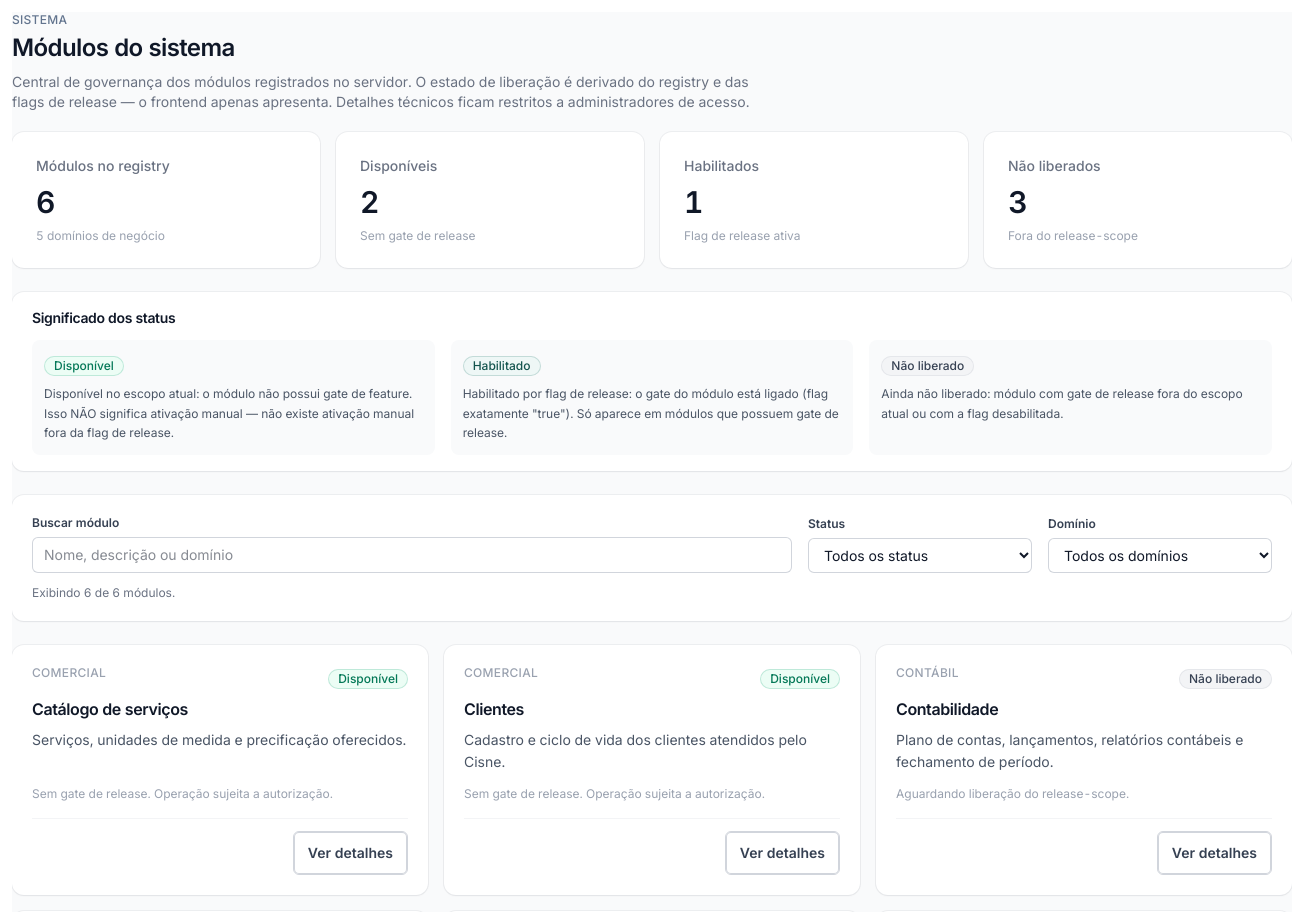
Test case: ModulesRegistryPage — governança do registry › filters by search text and restores the full list via Limpar filtros
The width and height of the screenshot is (1292, 912).
Expected: the text "Módulos no registry" is shown, [36,157,170,174]
Type "folha" into the search field labelled "Buscar módulo" at (412, 554), box [32,536,792,572]
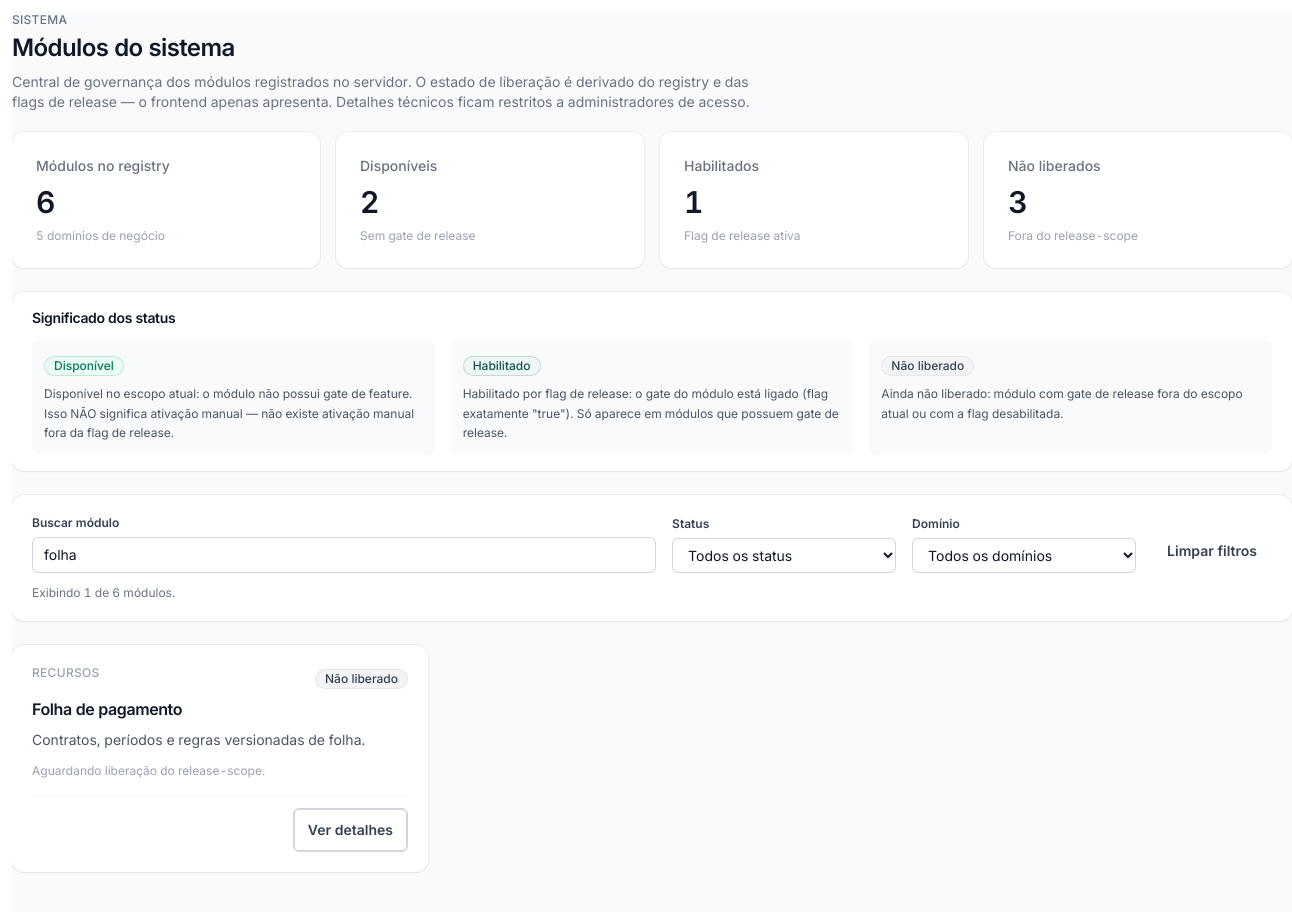
Expected: the heading "Folha de pagamento" is shown, [32,698,182,718]
Now the heading "Clientes" is gone
Now the text "Exibindo 1 de 6 módulos." is shown, box [32,584,175,600]
Click the button "Limpar filtros" at (1212, 550), box [1152,528,1272,572]
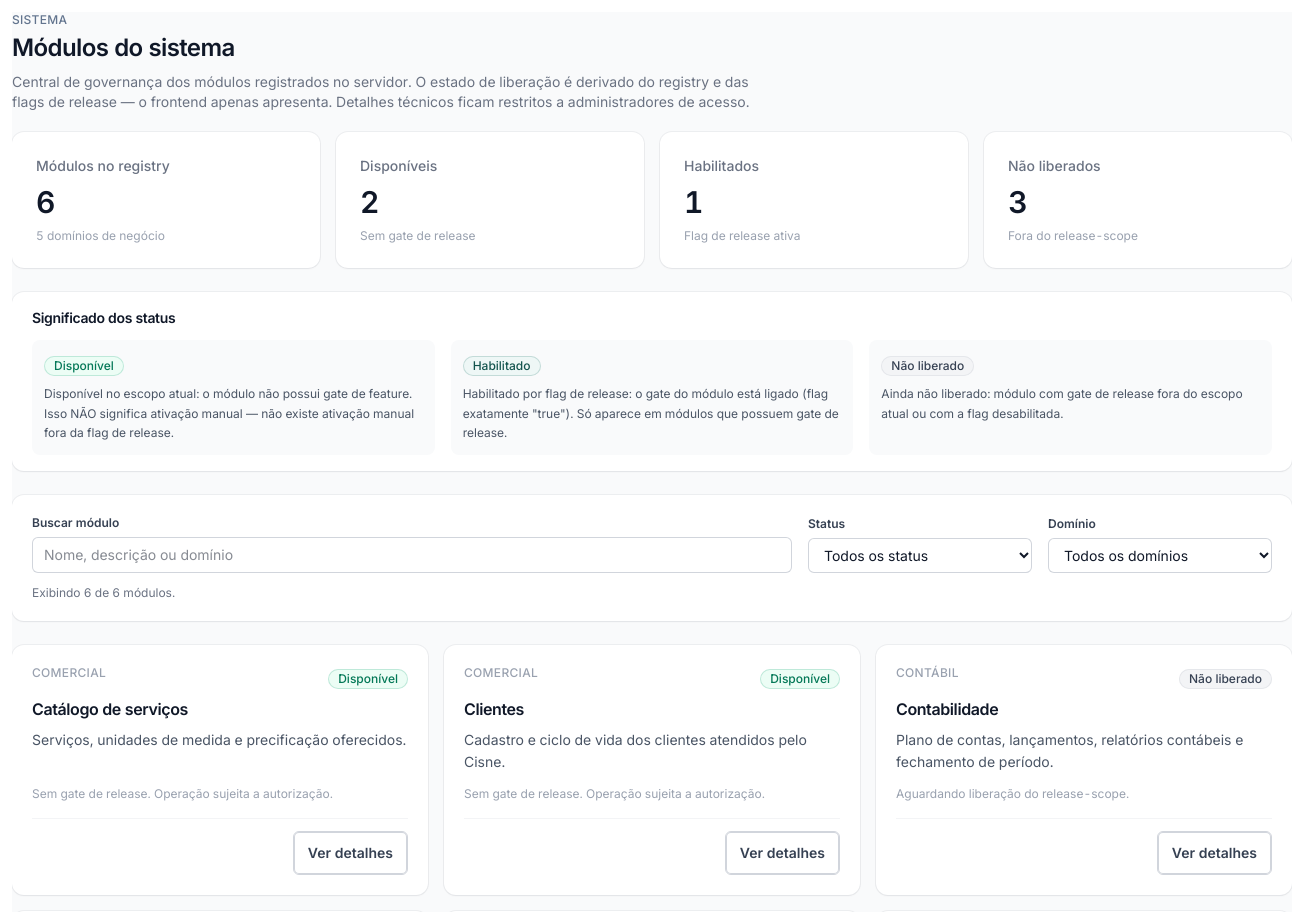
Now the heading "Clientes" is shown, box [464,698,524,718]
Now the text "Exibindo 6 de 6 módulos." is shown, box [32,584,175,600]
